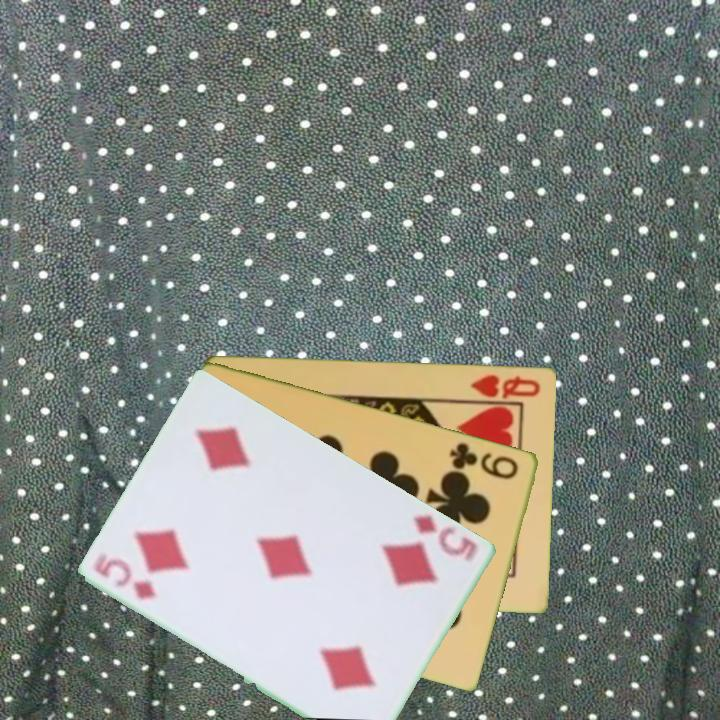5d: (410, 511, 481, 564), (91, 551, 160, 603)
9c: (446, 438, 522, 482)
Qh: (467, 371, 543, 401)
